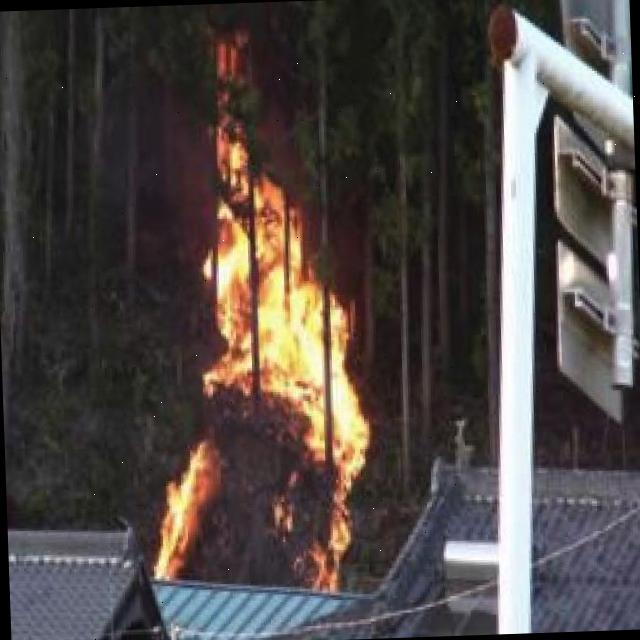fire: (127, 105, 370, 602)
